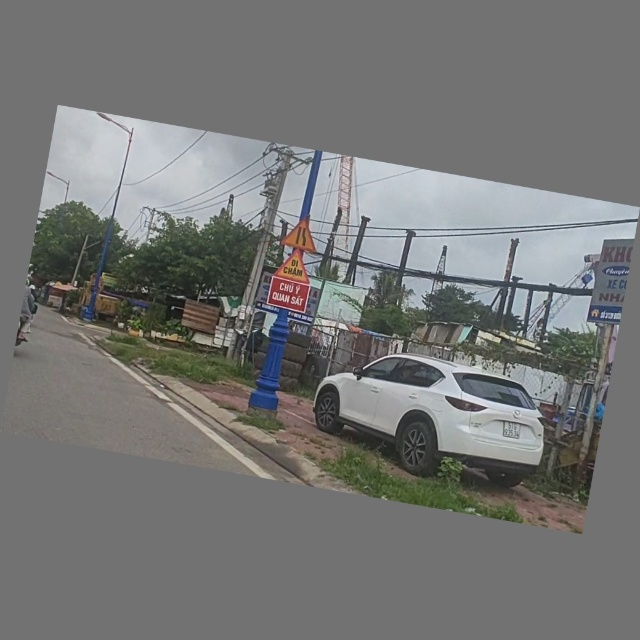W.203c: (280, 216, 322, 254)
W.245a: (274, 247, 317, 286)
